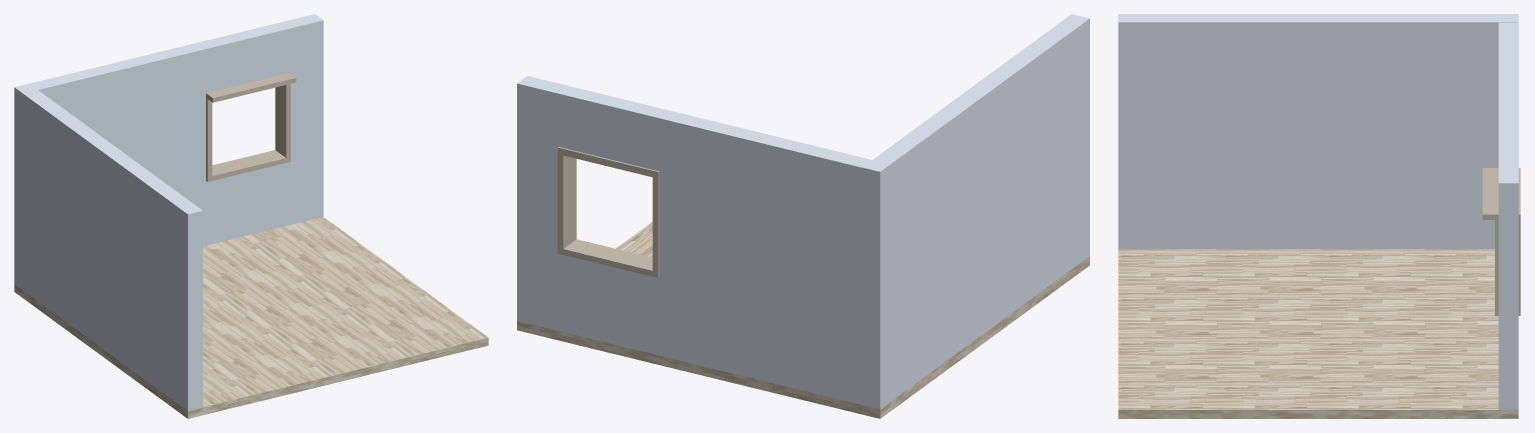
File: Bedroom.fbx
3 renders of one model, left to right at view 1: azimuth 30°, elevation 25°; view 2: azimuth 150°, elevation 25°; view 3: azimuth 270°, elevation 25°, orthographic. The views are drawn at different scales.
Visible parts, largest first — view 1: Bedroom; view 2: Bedroom; view 3: Bedroom.
Part boxes in pixels (left/top/right/bottom): Bedroom: left=14, top=14, right=488, bottom=418; Bedroom: left=517, top=14, right=1089, bottom=418; Bedroom: left=1118, top=14, right=1520, bottom=418.
Size of the model in its own units: 400 by 260 by 402.
